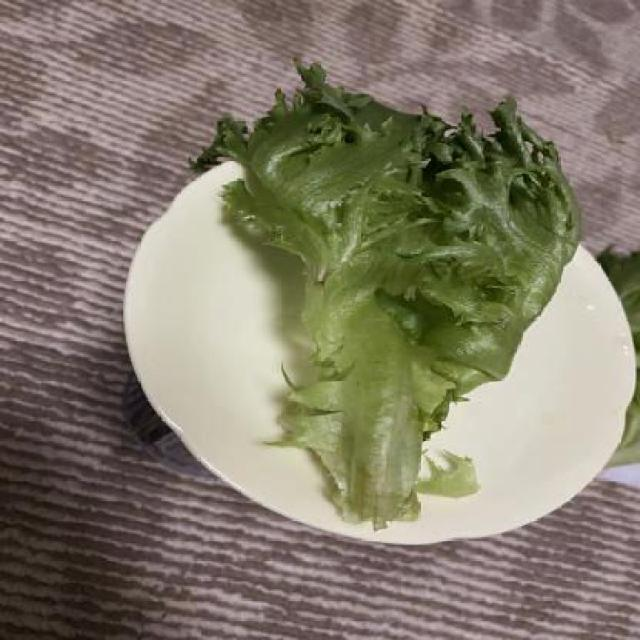Lettuce: (208, 49, 583, 526)
